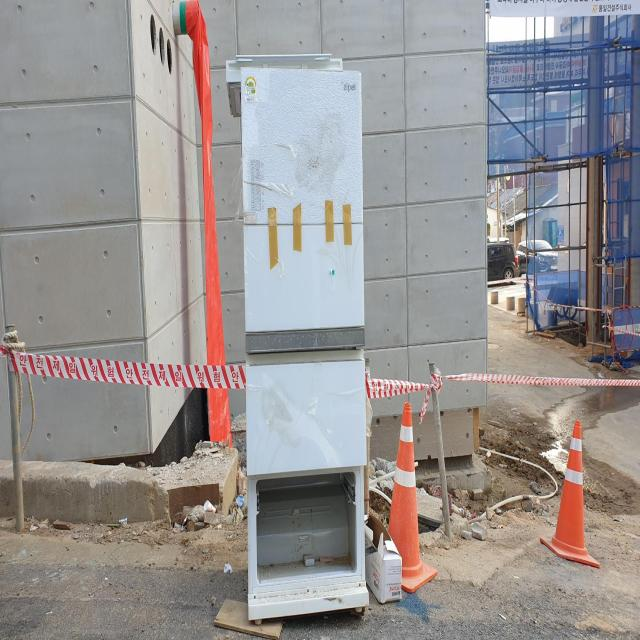refrigerator: (225, 53, 372, 624)
